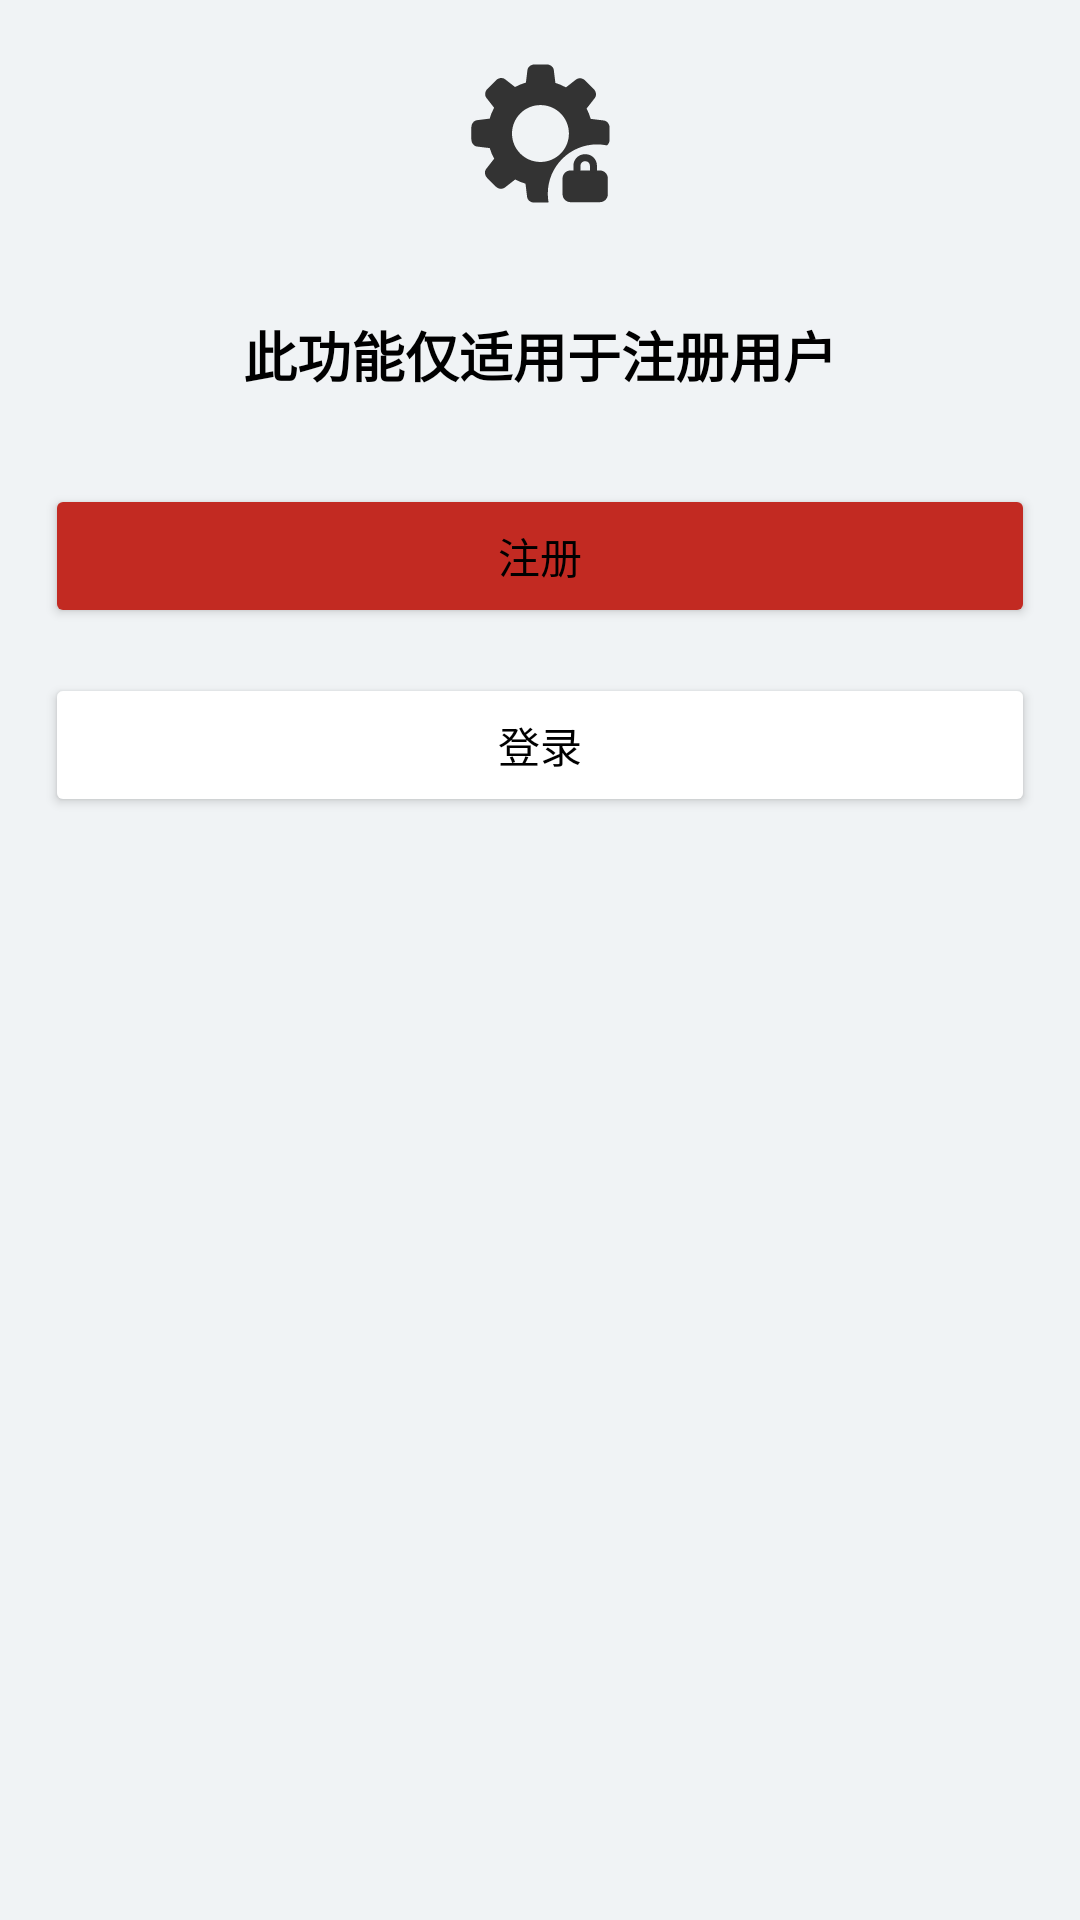

Icons on this 1080*1920 Android screen, each with its box as [x1,y1,x2,y2]:
account admin: [471,64,610,203]
